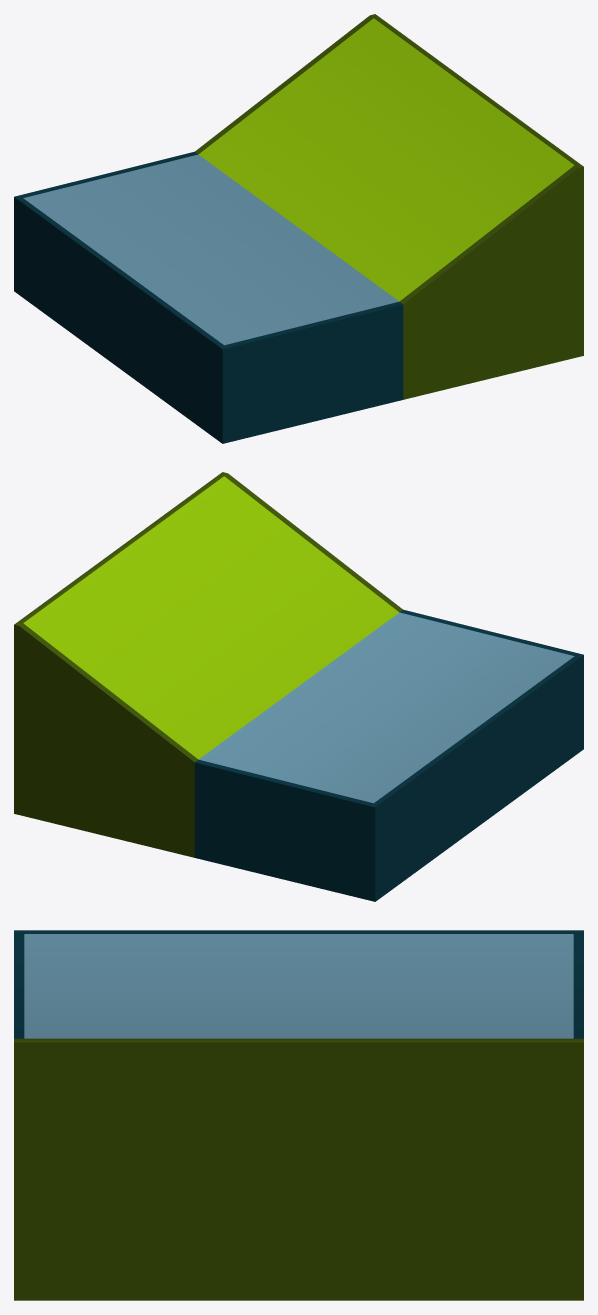
File: Agua_5.fbx
3 views of the same model, one above another, from view 1: azimuth 30°, elevation 25°; view 2: azimuth 150°, elevation 25°; view 3: azimuth 270°, elevation 25° (orthographic). The views are drawn at different scales.
Visible parts, largest first — view 1: pCube2; view 2: pCube2; view 3: pCube2.
Boxes of the visible parts, <box> form: pCube2: <box>14,14,583,443</box>; pCube2: <box>14,472,583,901</box>; pCube2: <box>14,930,583,1300</box>.
Size of the model in its own units: 200 by 100 by 200.
